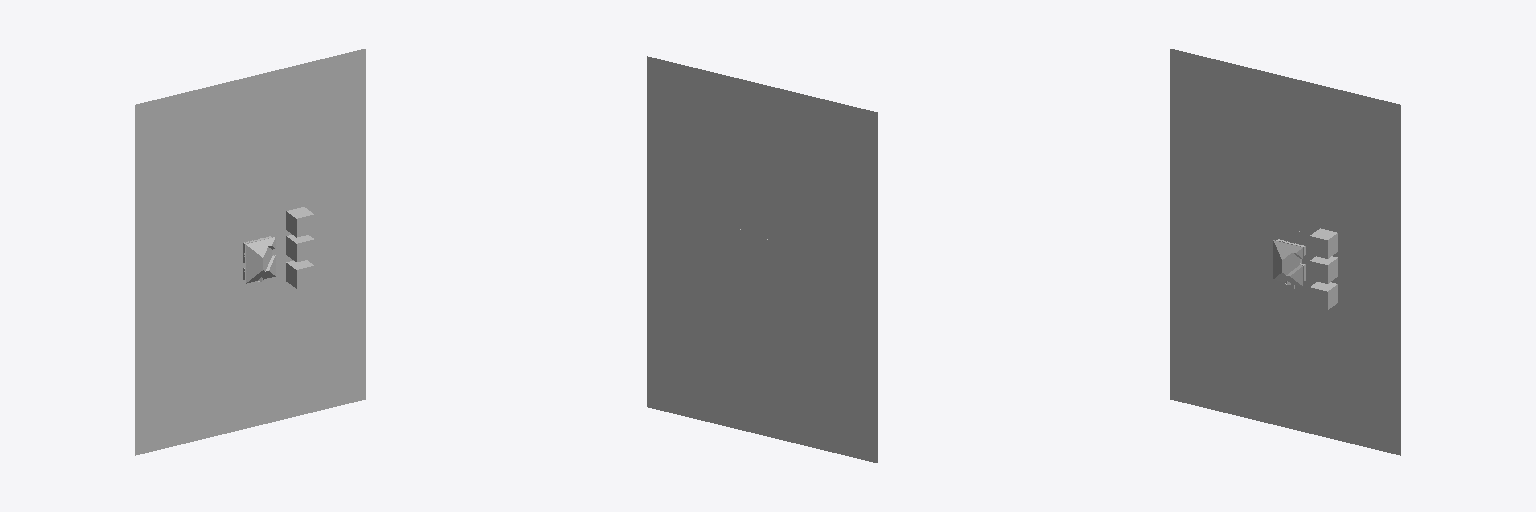
The model's file is house1.obj.
3 views of the same model, side by side, from view 1: azimuth 30°, elevation 25°; view 2: azimuth 150°, elevation 25°; view 3: azimuth 330°, elevation 25° (orthographic).
Parts seen in each view (by area): view 1: Plane001, roof, mark1, mark3, mark2, lot; view 2: Plane001, lot; view 3: Plane001, roof, mark1, mark3, mark2, lot.
Boxes of the visible parts, x1,y1,x2,y2 form: Plane001: [135, 49, 365, 455]; roof: [246, 237, 275, 283]; mark1: [286, 207, 314, 237]; mark3: [286, 260, 314, 288]; mark2: [286, 235, 314, 261]; lot: [241, 221, 273, 290]; Plane001: [647, 56, 877, 462]; lot: [740, 229, 772, 298]; Plane001: [1170, 49, 1400, 455]; roof: [1273, 240, 1302, 286]; mark1: [1310, 228, 1337, 258]; mark3: [1310, 282, 1337, 309]; mark2: [1310, 256, 1337, 283]; lot: [1275, 229, 1307, 289].
Size of the model in its own units: 128 by 186 by 10.53.